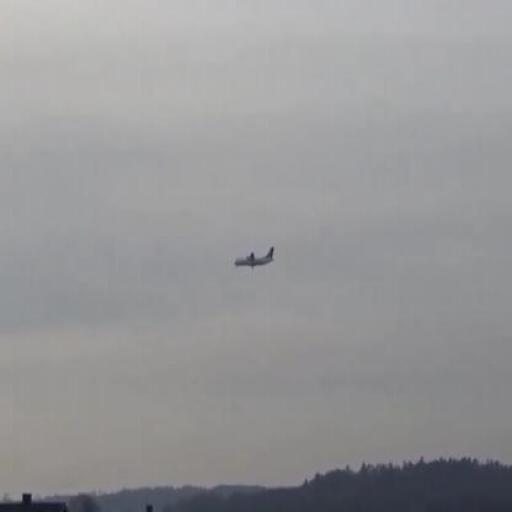aircraft: (234, 246, 276, 271)
